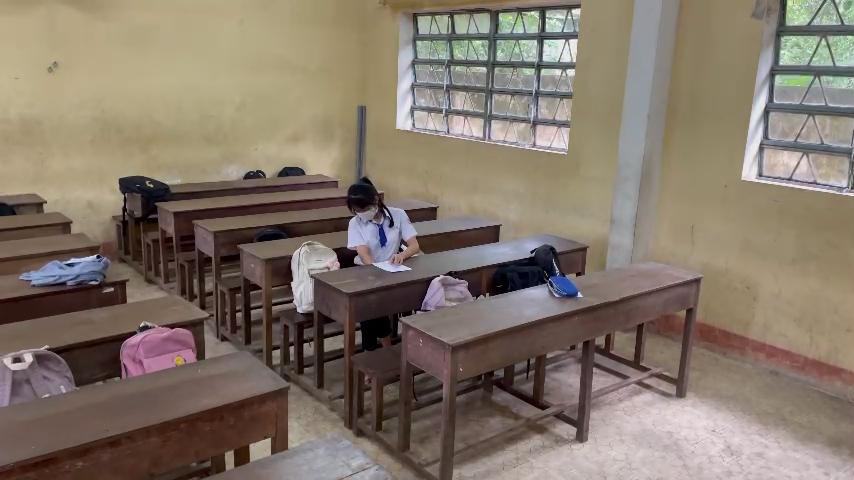Bend Over The Desk: (337, 172, 389, 226)
Hand Under Table: (337, 217, 376, 270)
